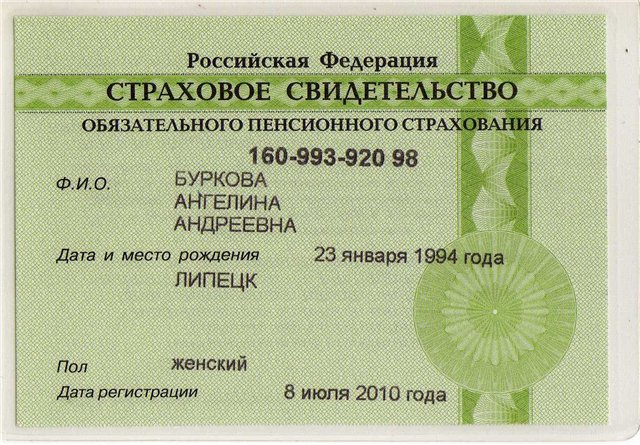text: (241, 139, 426, 170), (309, 243, 505, 271), (279, 378, 452, 409), (167, 211, 301, 236), (166, 189, 287, 212), (166, 167, 274, 190), (169, 268, 259, 292), (164, 351, 253, 375)
